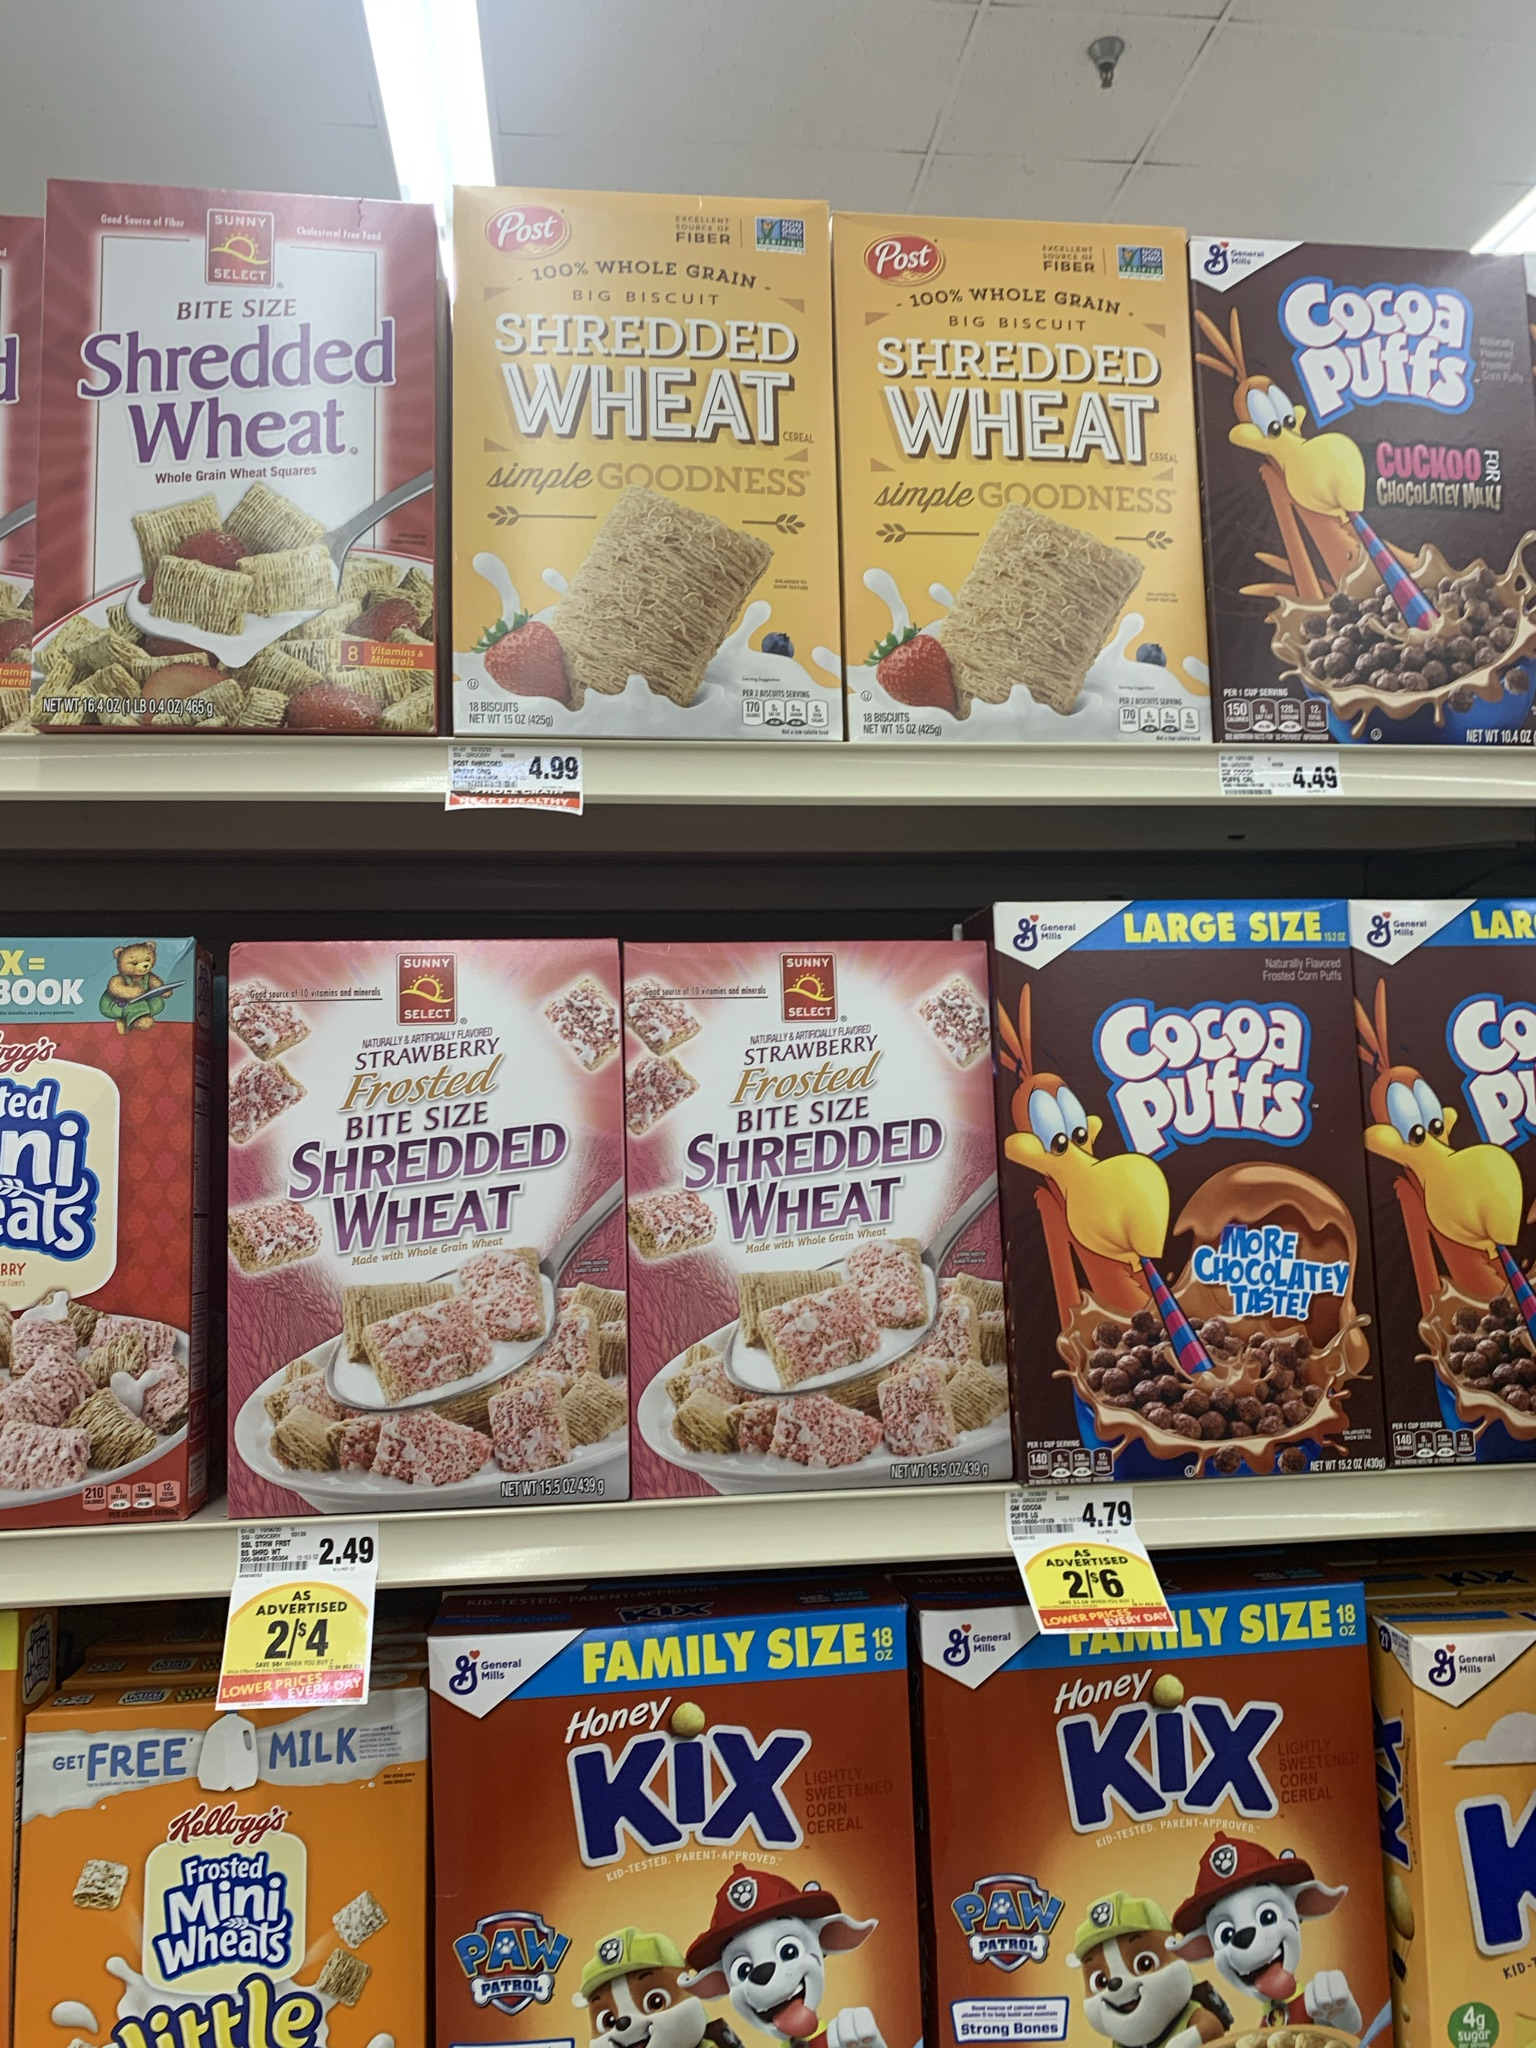Cereal: (223, 926, 629, 1522), (984, 887, 1391, 1469), (623, 930, 1012, 1508), (913, 1600, 1396, 2048), (35, 195, 434, 731), (457, 195, 842, 740), (423, 1624, 912, 2048), (836, 223, 1207, 739)
